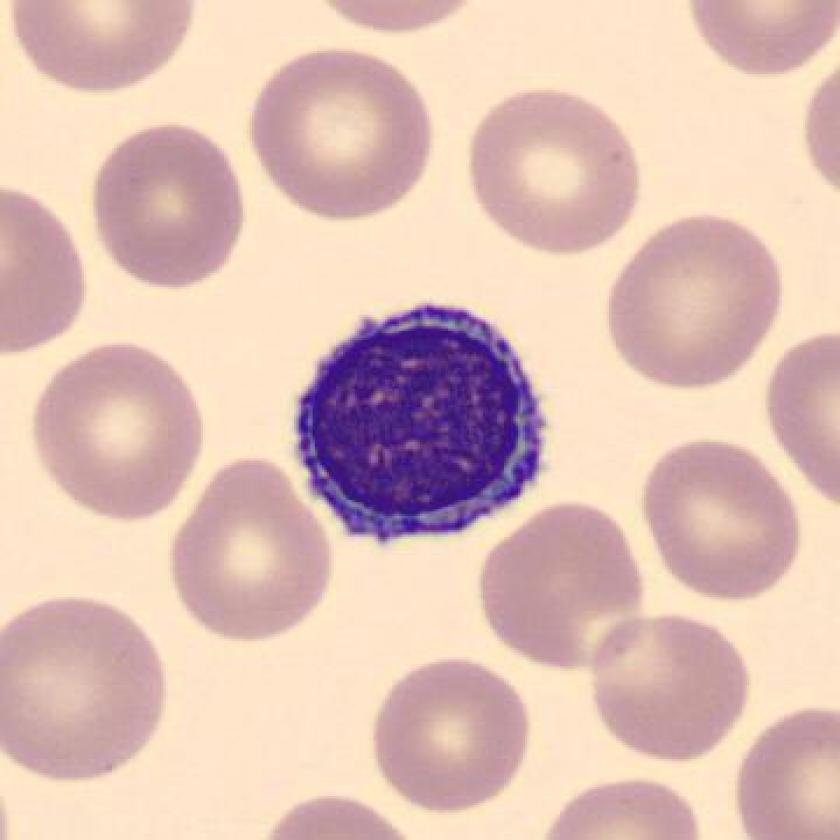lymphocyte: (281, 284, 559, 571)
